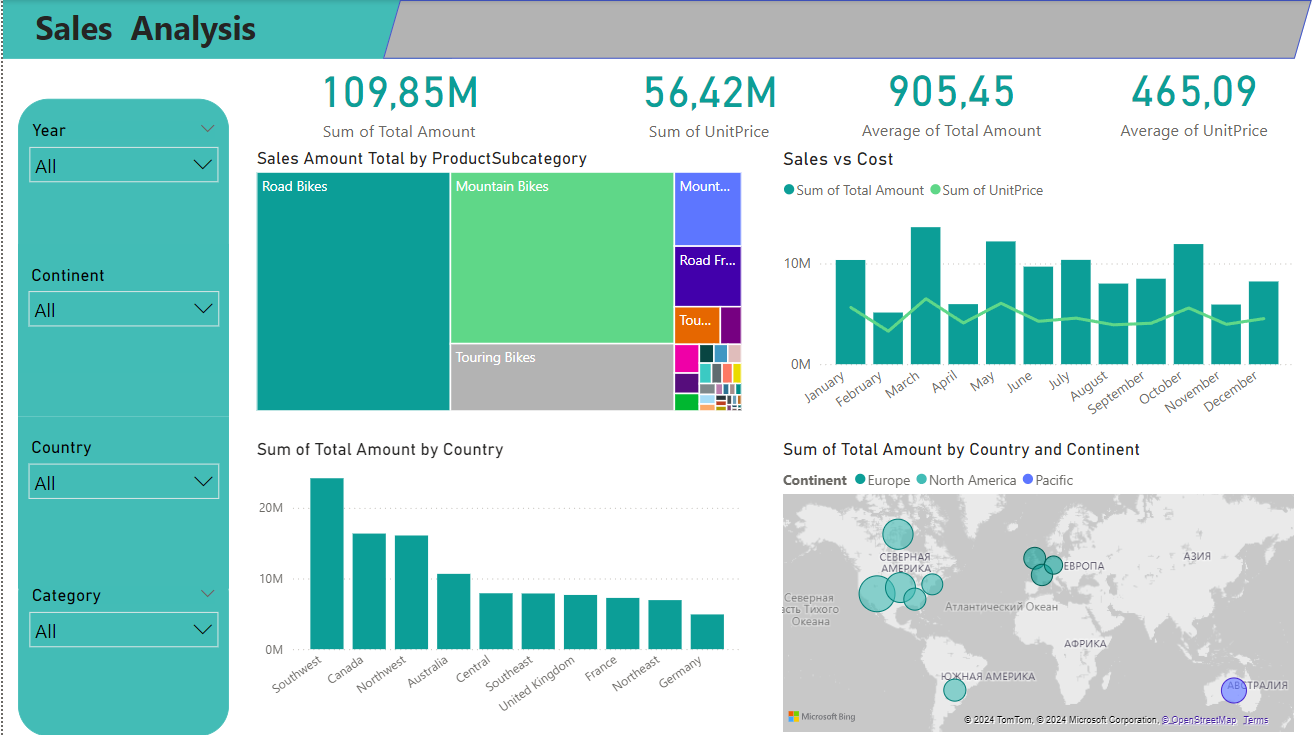

The dashboard page shown, as its layout file describes it:
{"tool":"powerbi","page":{"name":"Sales Analysis","canvas":[1280,720],"ordinal":0},"visuals":[{"type":"slicer","fields":{"Values":["SalesProduct.Year"]},"box":[14.7,96.6,206.7,168.8],"z":0},{"type":"slicer","fields":{"Values":["SalesProduct.Continent"]},"box":[14.7,238.5,206.7,168.8],"z":1000},{"type":"slicer","fields":{"Values":["SalesProduct.Country"]},"box":[14.7,407.2,206.7,168.8],"z":2000},{"type":"slicer","fields":{"Values":["SalesProduct.CategoryName"]},"box":[14.7,551.5,206.7,168.8],"z":3000},{"type":"treemap","title":"Sales Amount Total by ProductSubcategory","fields":{"Group":["SalesProduct.SubCategoryName"],"Values":["Sum(SalesProduct.LineTotal)"]},"box":[243.3,144.3,484.2,262.9],"z":4000},{"type":"lineClusteredColumnComboChart","title":"Sales vs Cost","fields":{"Category":["SalesProduct.ModifiedDate.Variation.Date Hierarchy.Month"],"Y":["Sum(SalesProduct.LineTotal)"],"Y2":["Sum(SalesProduct.UnitPrice)"]},"box":[758.2,144.3,509.9,284.9],"z":5000},{"type":"map","fields":{"Category":["SalesProduct.Country"],"Series":["SalesProduct.Continent"],"Size":["Sum(SalesProduct.LineTotal)"]},"box":[758.2,429.2,509.9,291],"z":6000},{"type":"card","fields":{"Values":["Sum(SalesProduct.LineTotal)"]},"box":[243.3,47.7,288.6,96.6],"z":7000},{"type":"card","fields":{"Values":["Sum(SalesProduct.UnitPrice)"]},"box":[568.6,47.7,244.6,96.6],"z":8000},{"type":"card","fields":{"Values":["Avg(SalesProduct.Total)"]},"box":[813.2,46.5,229.9,97.8],"z":9000},{"type":"card","fields":{"Values":["Avg(SalesProduct.UnitPrice)"]},"box":[1062.6,46.5,205.4,97.8],"z":10000},{"type":"clusteredColumnChart","fields":{"Category":["SalesProduct.Country"],"Y":["Sum(SalesProduct.Total)"]},"box":[243.3,429.2,484.2,291],"z":11000},{"type":"textbox","box":[0,0,439,57.5],"z":12000},{"type":"shape","box":[371.7,0,908.6,57.5],"z":13000}]}

Visuals, with their boxes in screenshot pixels (x1, y1, x2, y2), scaled from the page's 1280x720 canvas onto the 1312x735 screenshot:
slicer - SalesProduct.Year: <bbox>15, 99, 227, 271</bbox>
slicer - SalesProduct.Continent: <bbox>15, 243, 227, 416</bbox>
slicer - SalesProduct.Country: <bbox>15, 416, 227, 588</bbox>
slicer - SalesProduct.CategoryName: <bbox>15, 563, 227, 734</bbox>
"Sales Amount Total by ProductSubcategory" treemap: <bbox>249, 147, 746, 416</bbox>
"Sales vs Cost" lineClusteredColumnComboChart: <bbox>777, 147, 1300, 438</bbox>
map - SalesProduct.Country x SalesProduct.Continent: <bbox>777, 438, 1300, 734</bbox>
card - Sum(SalesProduct.LineTotal): <bbox>249, 49, 545, 147</bbox>
card - Sum(SalesProduct.UnitPrice): <bbox>583, 49, 834, 147</bbox>
card - Avg(SalesProduct.Total): <bbox>834, 47, 1069, 147</bbox>
card - Avg(SalesProduct.UnitPrice): <bbox>1089, 47, 1300, 147</bbox>
clusteredColumnChart - SalesProduct.Country x Sum(SalesProduct.Total): <bbox>249, 438, 746, 734</bbox>
textbox: <bbox>0, 0, 450, 59</bbox>
shape: <bbox>381, 0, 1311, 59</bbox>
